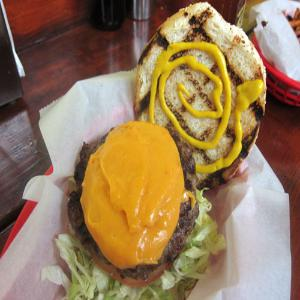cheeseburger_475cal: (112, 1, 269, 175), (51, 125, 218, 278)
